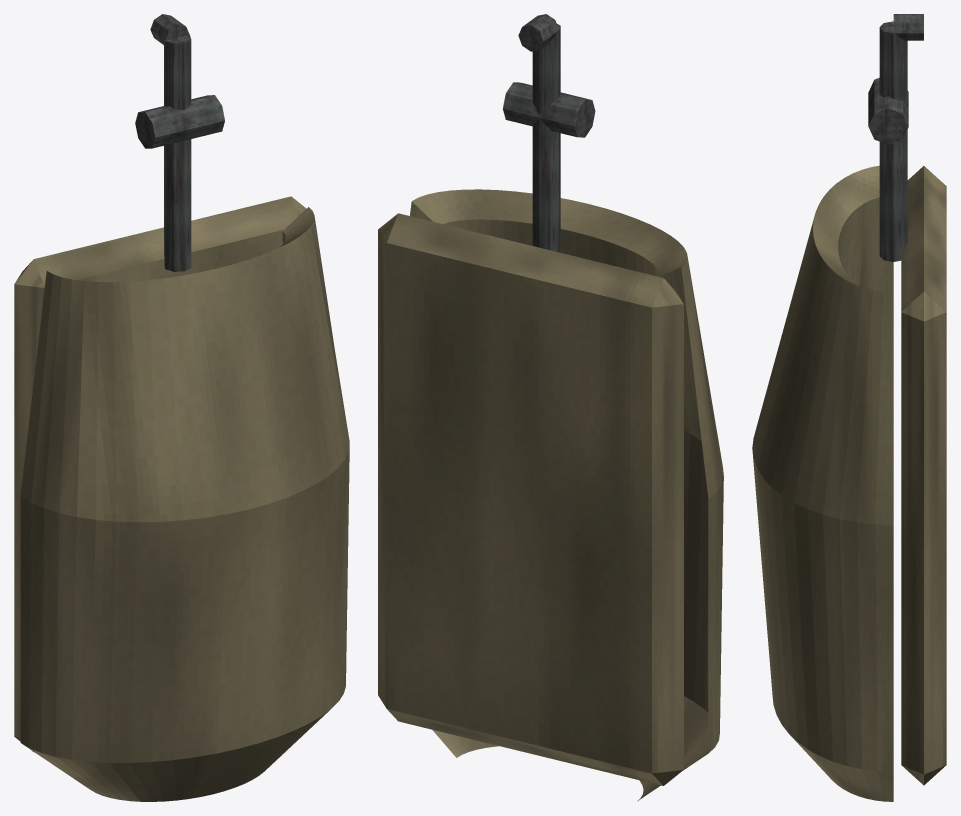
Rendered from level_school_urinal_worn.glb.
The picture shows the model from 3 angles, left to right: view 1: azimuth 30°, elevation 25°; view 2: azimuth 150°, elevation 25°; view 3: azimuth 270°, elevation 25°; orthographic projection. The views are drawn at different scales.
Parts seen in each view (by area): view 1: level_school_urinal_worn; view 2: level_school_urinal_worn; view 3: level_school_urinal_worn.
Part boxes in pixels (x1,y1,x2,y2): level_school_urinal_worn: [14, 14, 349, 801]; level_school_urinal_worn: [378, 14, 723, 801]; level_school_urinal_worn: [752, 14, 946, 801].
Bounding box in the file's own units: 0.36 × 0.814 × 0.1925.
Materials: 2 (2 with a texture image).
